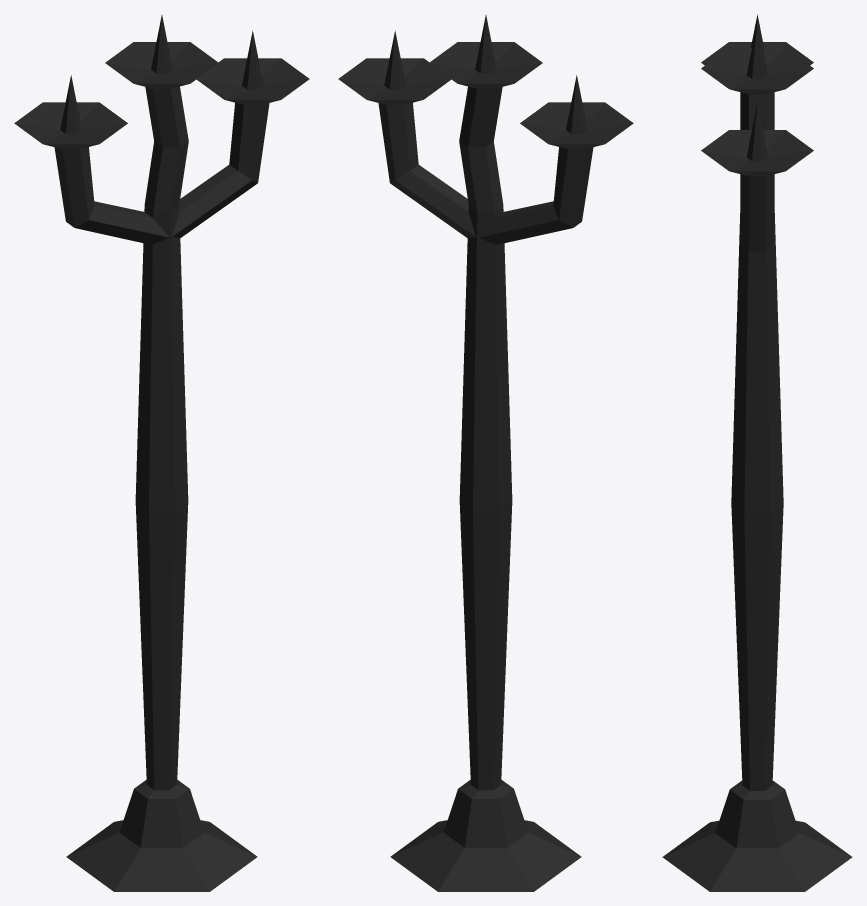
The model's file is candlestick-empty.glb.
3 views of the same model, side by side, from view 1: azimuth 30°, elevation 25°; view 2: azimuth 150°, elevation 25°; view 3: azimuth 270°, elevation 25° (orthographic).
Visible parts, largest first — view 1: candlestick-empty; view 2: candlestick-empty; view 3: candlestick-empty.
Boxes of the visible parts, <box> form: candlestick-empty: <box>14,15,309,891</box>; candlestick-empty: <box>338,15,633,891</box>; candlestick-empty: <box>662,14,852,891</box>.
Size of the model in its own units: 0.6414 by 1.93 by 0.3984.
Materials: 1 (1 with a texture image).
